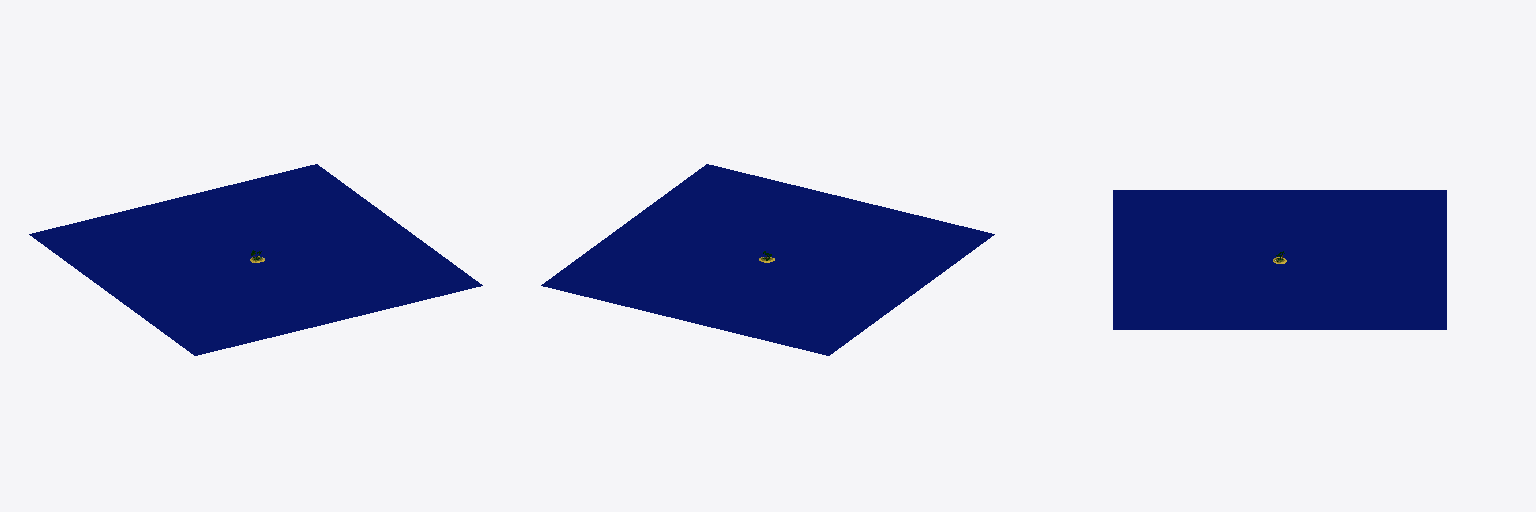
The model's file is Insel.obj.
3 renders of one model, left to right at view 1: azimuth 30°, elevation 25°; view 2: azimuth 150°, elevation 25°; view 3: azimuth 270°, elevation 25°, orthographic.
Parts seen in each view (by area): view 1: Plane.001; view 2: Plane.001; view 3: Plane.001.
Boxes of the visible parts, box(x1,y1,x2,y2) form: Plane.001: box(29, 164, 482, 355); Plane.001: box(541, 164, 994, 355); Plane.001: box(1113, 190, 1446, 329).
Bounding box in the file's own units: 379 × 10.51 × 379.